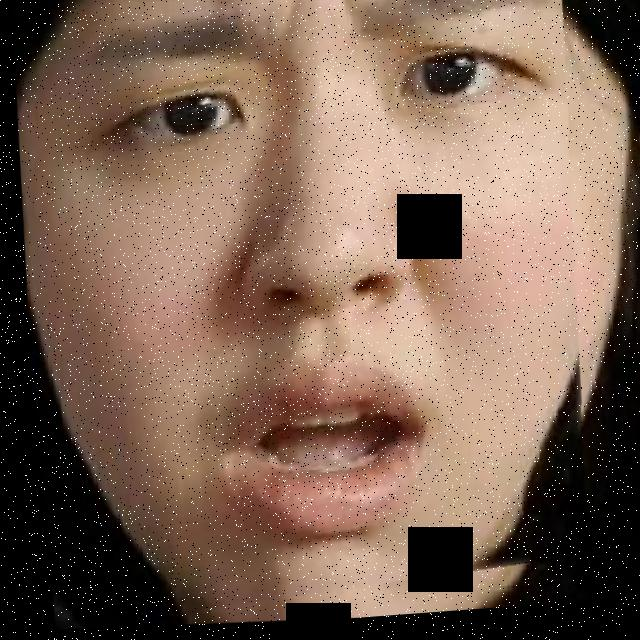anger: (18, 0, 604, 639)
